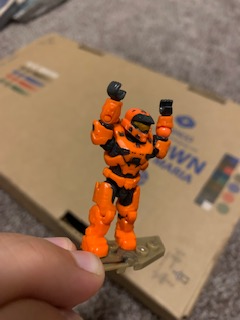spartan: (80, 76, 176, 261)
up: (84, 75, 177, 177)
